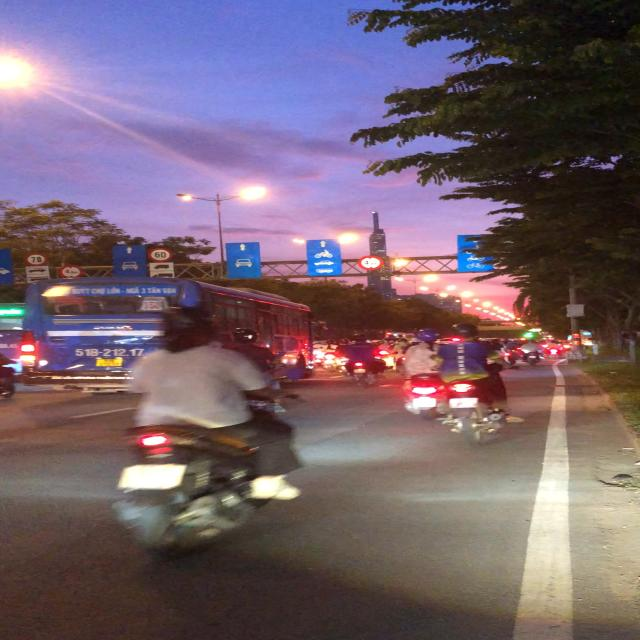Bien bao toc do toi da cho phep: (142, 247, 177, 264), (23, 252, 48, 266)
